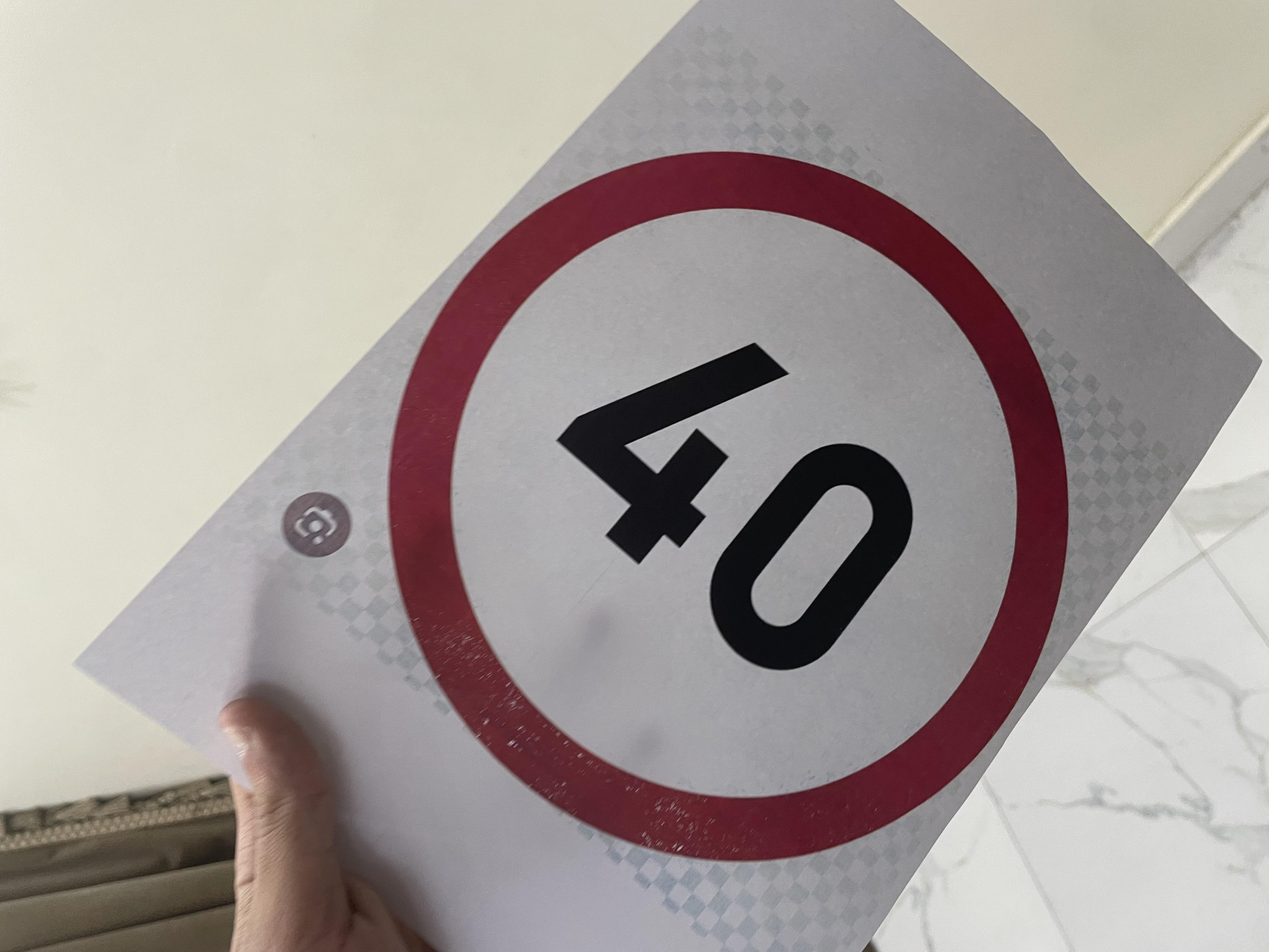40-Speed: (110, 284, 1080, 802)
